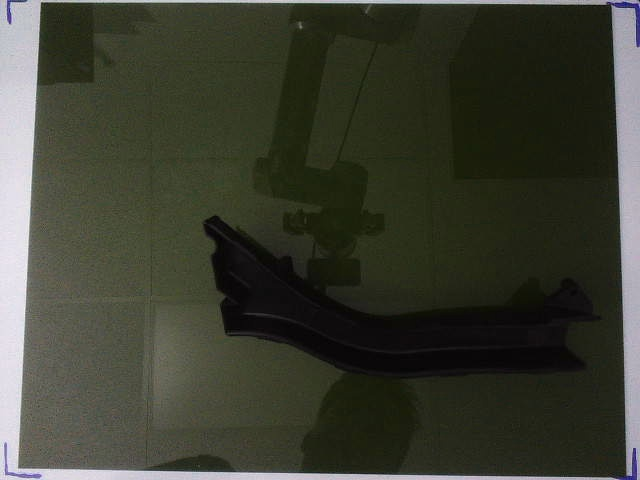887_A-Under: (203, 216, 603, 377)
